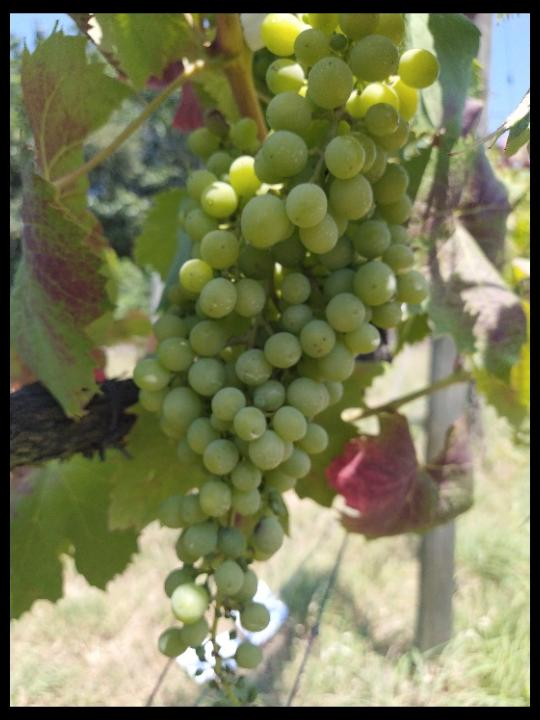grape: (135, 16, 440, 704)
